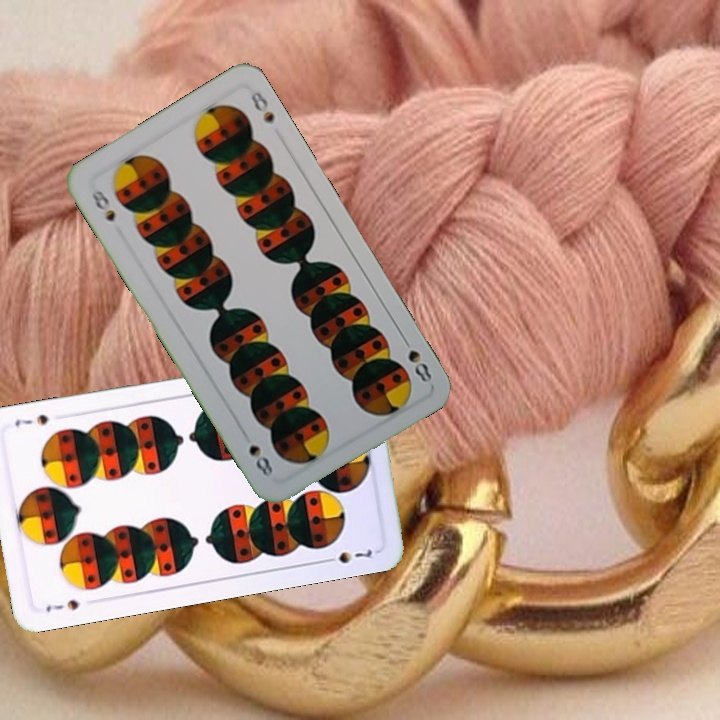S7: (42, 595, 81, 615)
S8: (397, 331, 435, 386), (87, 186, 118, 225)
